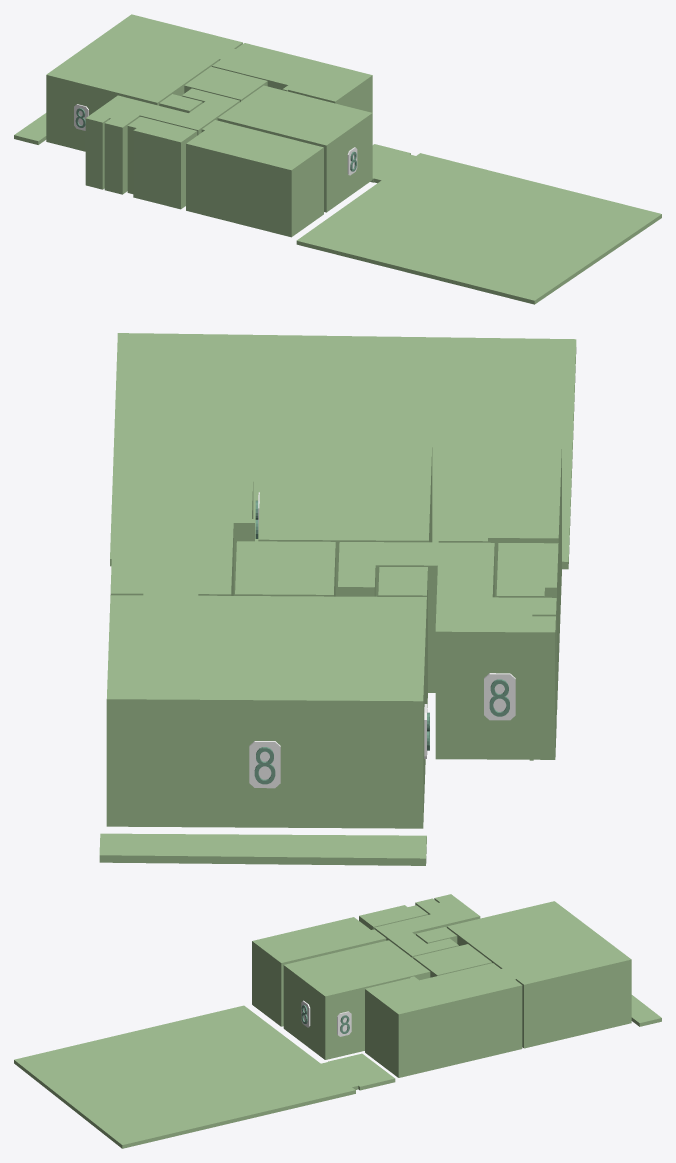
3 views of the same model, one above another, from view 1: azimuth 30°, elevation 25°; view 2: azimuth 150°, elevation 25°; view 3: azimuth 270°, elevation 25° (orthographic). The views are drawn at different scales.
Parts seen in each view (by area): view 1: g_8, g_7, g_1, g_6, g_4, g_0, g_5, g_2, g_9, g_3; view 2: g_1, g_8, g_4, g_6, g_0, g_7, g_9, g_2, g_5, g_3, g_17, g_13; view 3: g_8, g_1, g_0, g_6, g_7, g_4, g_2, g_5, g_9, g_3.
Part boxes in pixels (x1,y1,x2,y2): g_8: [296, 144, 661, 304]; g_7: [186, 120, 323, 237]; g_1: [46, 14, 242, 151]; g_6: [217, 85, 372, 212]; g_4: [85, 88, 239, 194]; g_0: [212, 43, 372, 112]; g_5: [127, 116, 197, 209]; g_2: [184, 66, 267, 101]; g_9: [14, 113, 46, 144]; g_3: [159, 94, 202, 112]; g_1: [106, 594, 426, 828]; g_8: [110, 333, 576, 569]; g_4: [338, 542, 556, 760]; g_6: [258, 438, 432, 596]; g_0: [110, 473, 254, 595]; g_7: [438, 439, 561, 661]; g_9: [99, 833, 426, 865]; g_2: [235, 541, 335, 596]; g_5: [496, 543, 558, 714]; g_3: [378, 567, 427, 707]; g_17: [484, 673, 515, 720]; g_13: [249, 741, 280, 788]; g_8: [14, 1005, 395, 1148]; g_1: [447, 901, 631, 1048]; g_0: [365, 963, 522, 1077]; g_6: [283, 940, 430, 1059]; g_7: [252, 917, 386, 1026]; g_4: [374, 894, 480, 958]; g_2: [413, 944, 491, 977]; g_5: [359, 905, 428, 929]; g_9: [631, 995, 661, 1026]; g_3: [416, 927, 457, 943].
Size of the model in its own units: 16.27 by 2.74 by 23.73.
